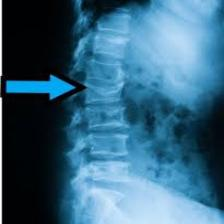impacted-fracture: (54, 0, 224, 224)
